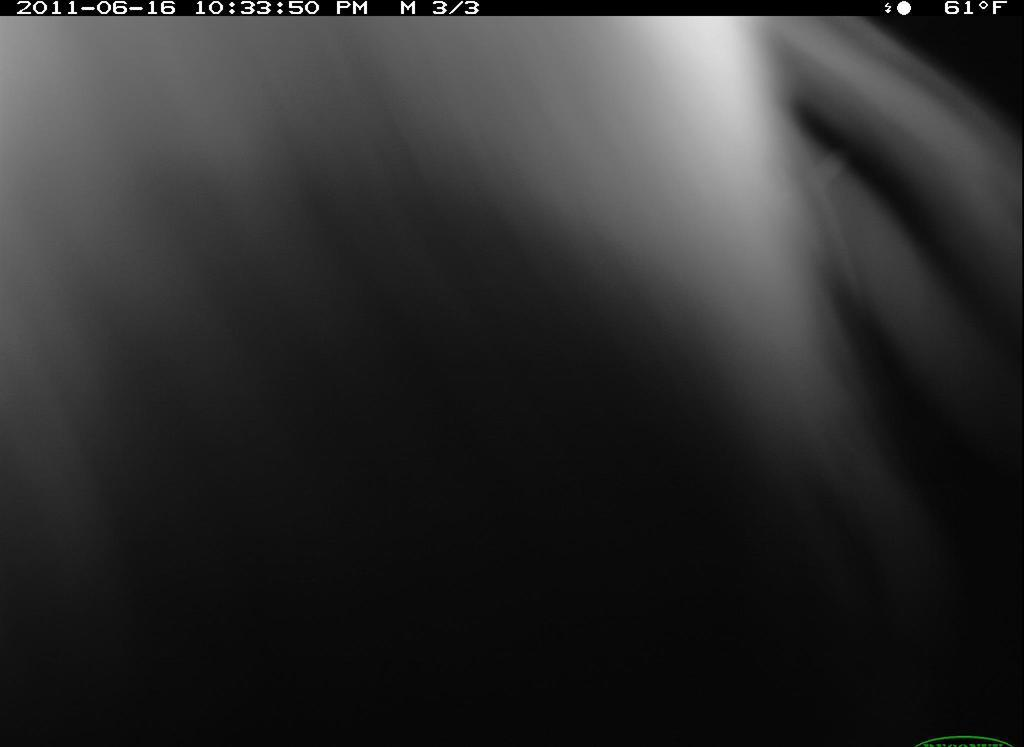raccoon: (7, 13, 1023, 746)
